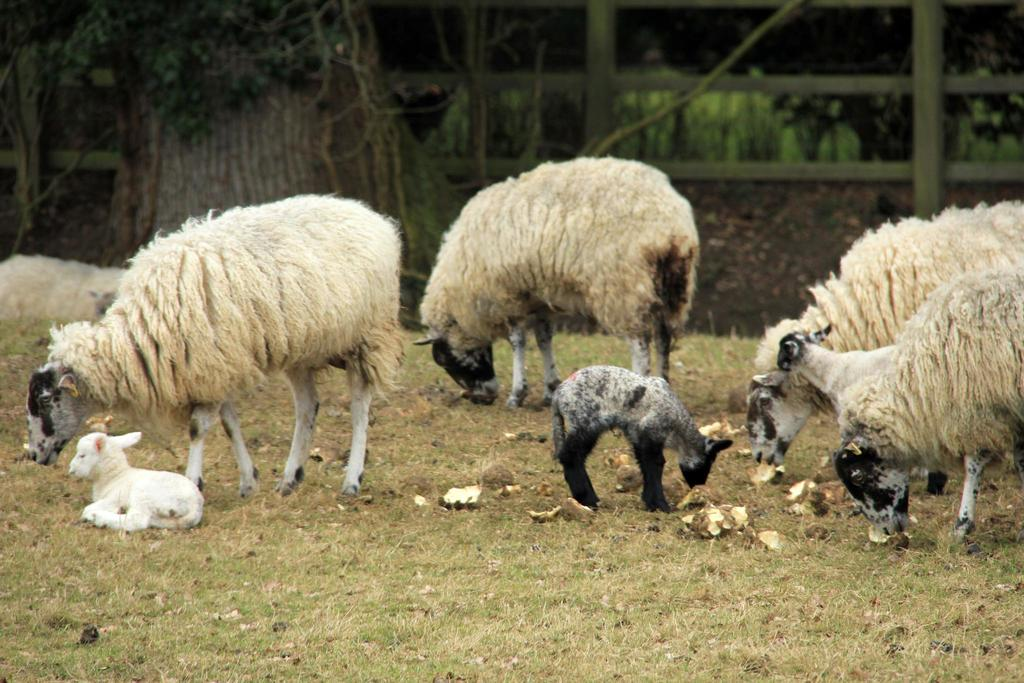sheep: (551, 362, 734, 509), (67, 430, 204, 532)
